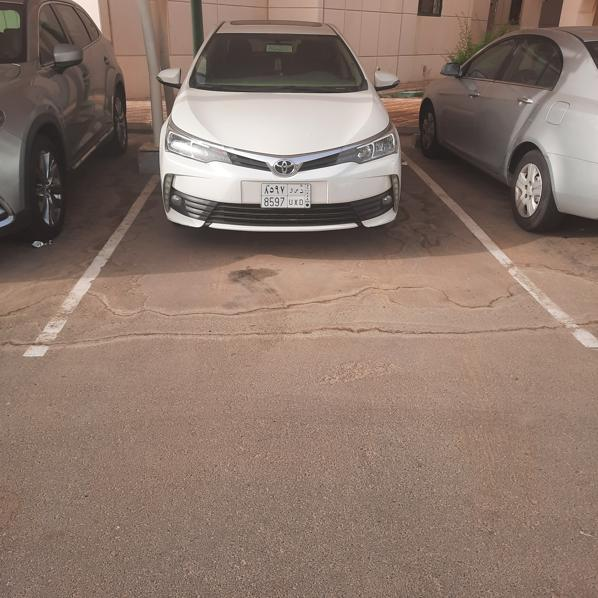numberplate: (262, 184, 311, 208)
